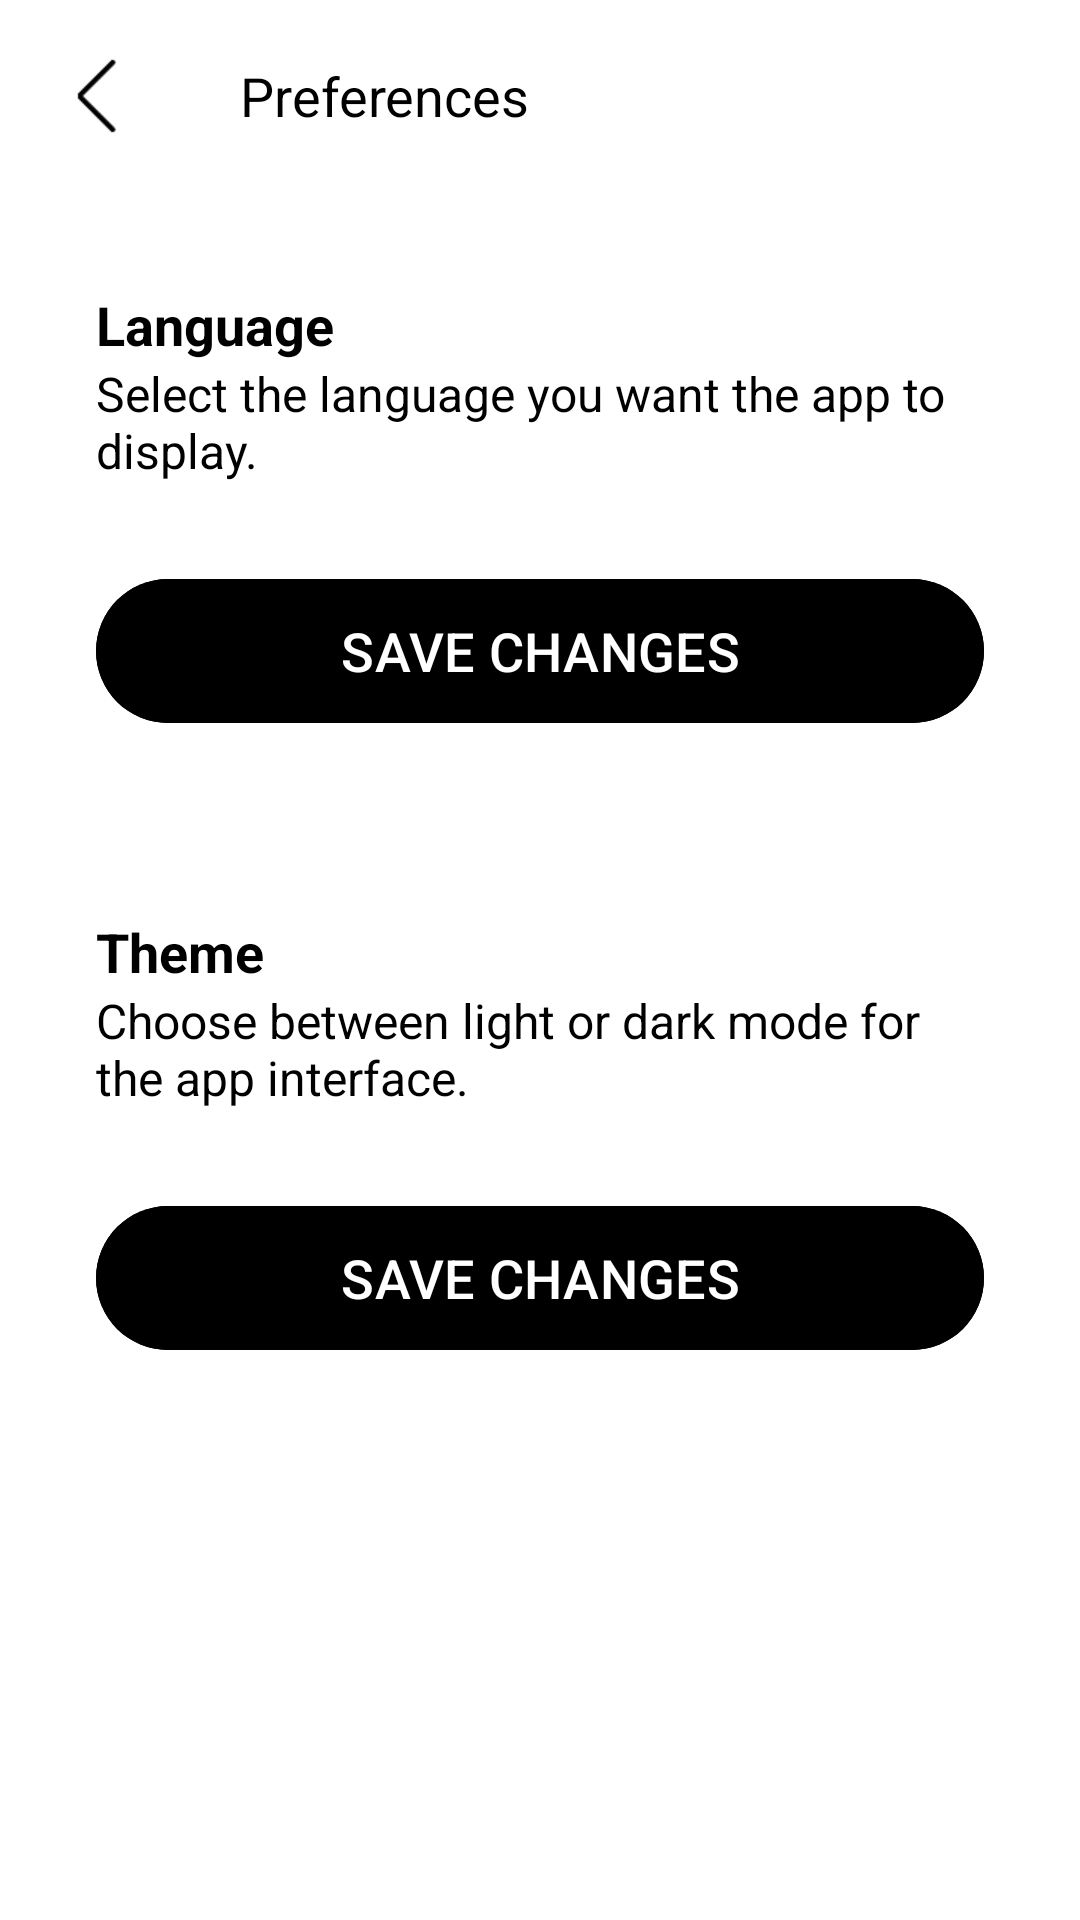

Point at icon controls on the screen. Image size 1080px×1920px, points as [x,y].
arrow back: [96,96]
